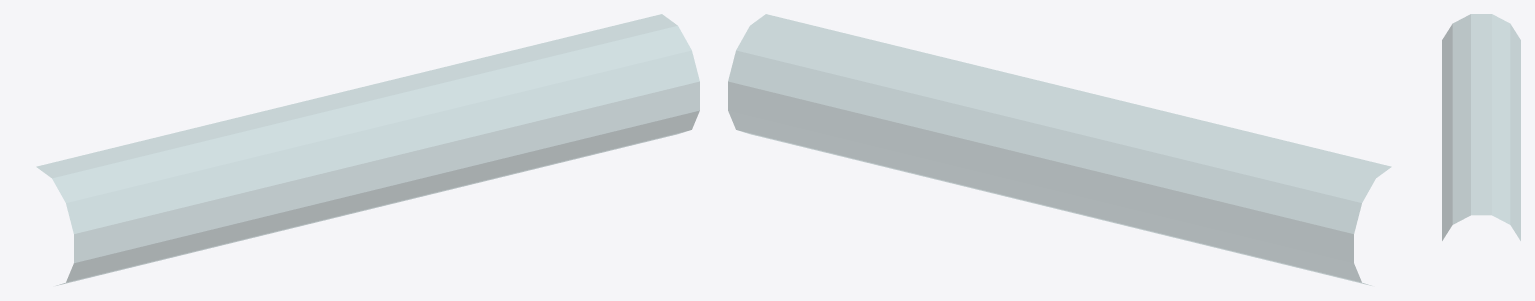
The model's file is glass_tube_small.glb.
3 views of the same model, side by side, from view 1: azimuth 30°, elevation 25°; view 2: azimuth 150°, elevation 25°; view 3: azimuth 270°, elevation 25° (orthographic). The views are drawn at different scales.
Visible parts, largest first — view 1: block_clear glass tube; view 2: block_clear glass tube; view 3: block_clear glass tube.
Part boxes in pixels (bbox=[...]): block_clear glass tube: bbox=[36, 14, 699, 285]; block_clear glass tube: bbox=[728, 14, 1390, 285]; block_clear glass tube: bbox=[1442, 14, 1520, 240].
Size of the model in its own units: 0.0584 by 0.00967 by 0.00967.
Materials: 1 (1 with a texture image).
